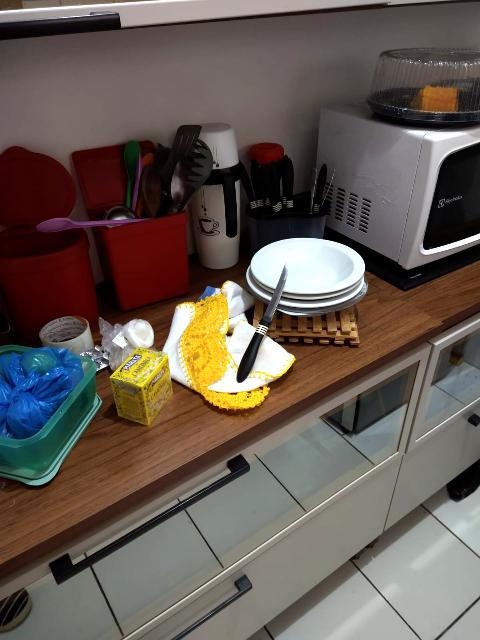pocket-knife: (230, 257, 308, 389)
